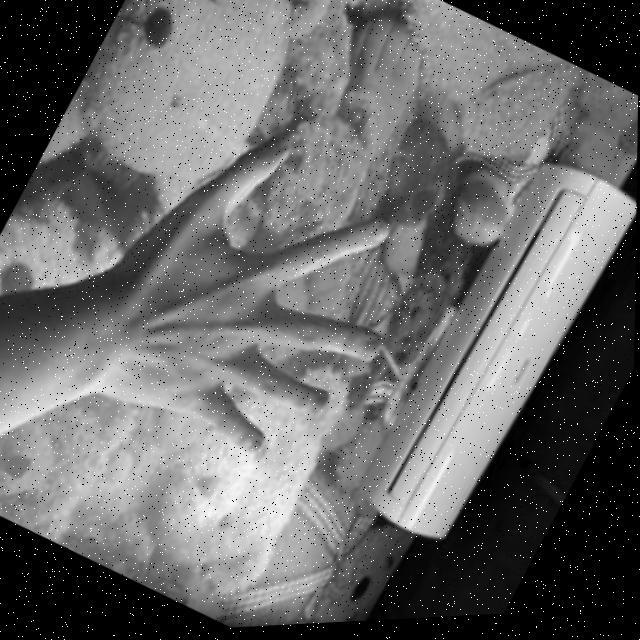no-gloves: (54, 82, 456, 498)
